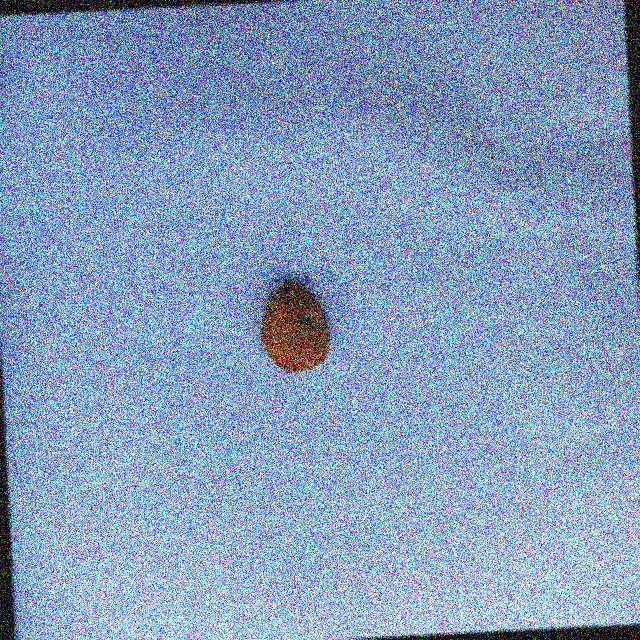grade3: (257, 276, 337, 378)
